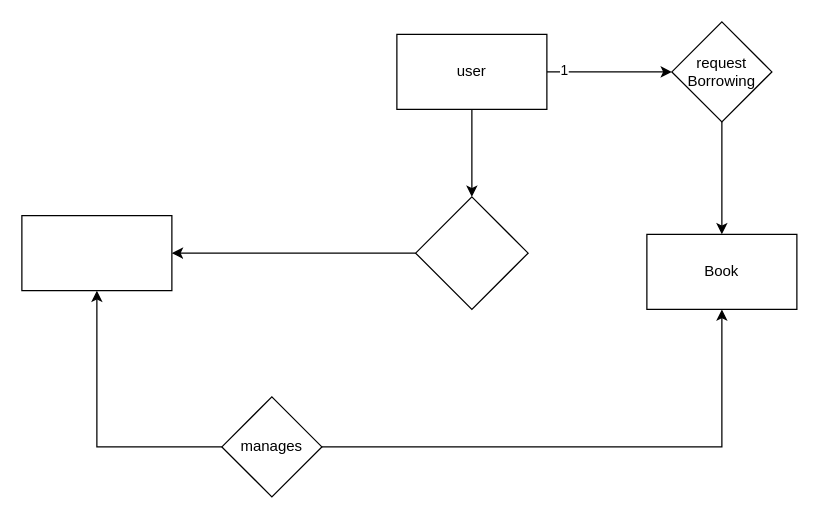
Image size: 819x519. Some labels were removed from this diagram. Here are the shapes that lost their labels. From the top down, the box of each, then its label:
(21, 214, 172, 291): Admin
(414, 196, 528, 309): request registration
